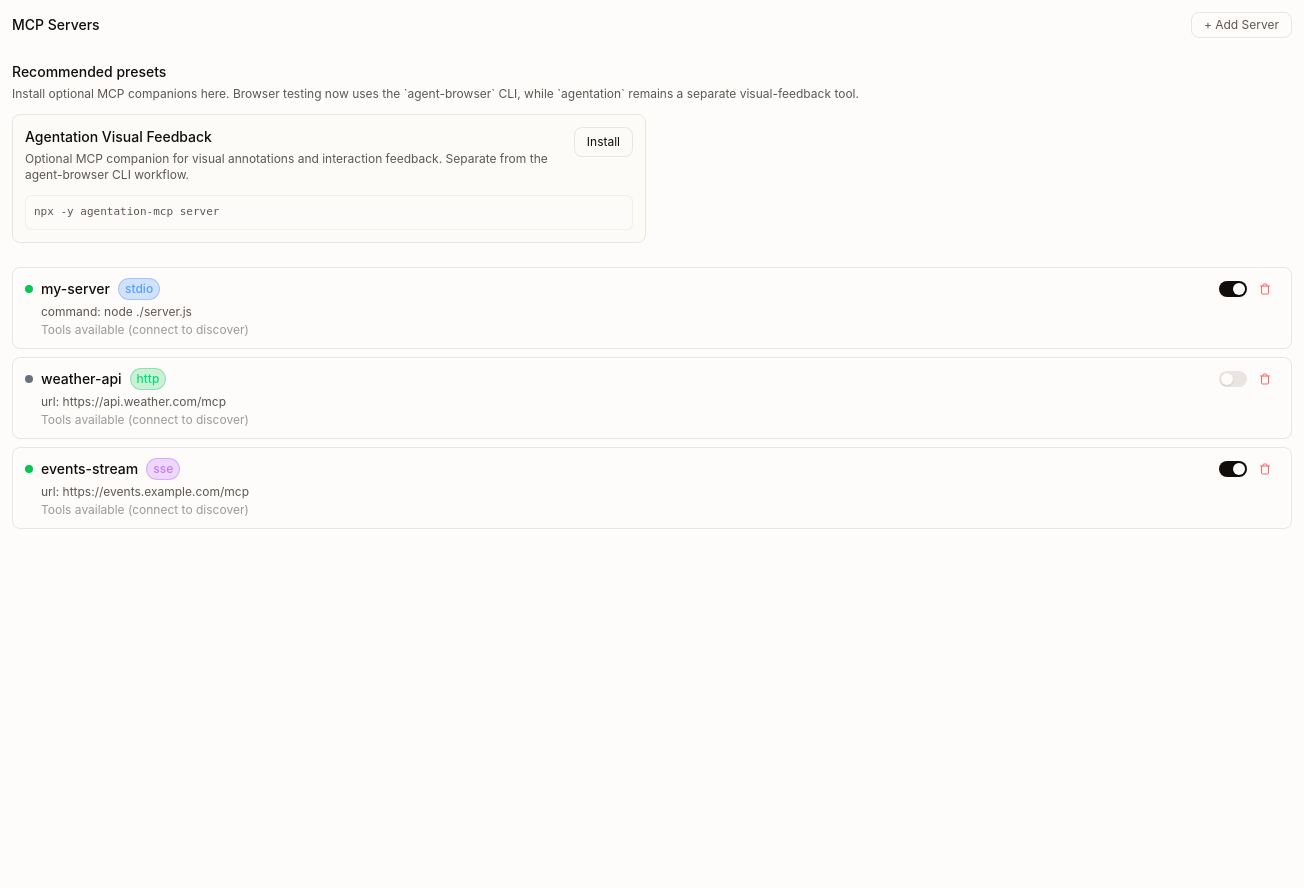
Scenario: McpPanel › add server button opens form
Expected: the element with test id "mcp-panel" is shown, [12, 12, 1292, 528]
Click the button with test id "mcp-add-btn" at (1241, 25), box [1191, 12, 1292, 38]
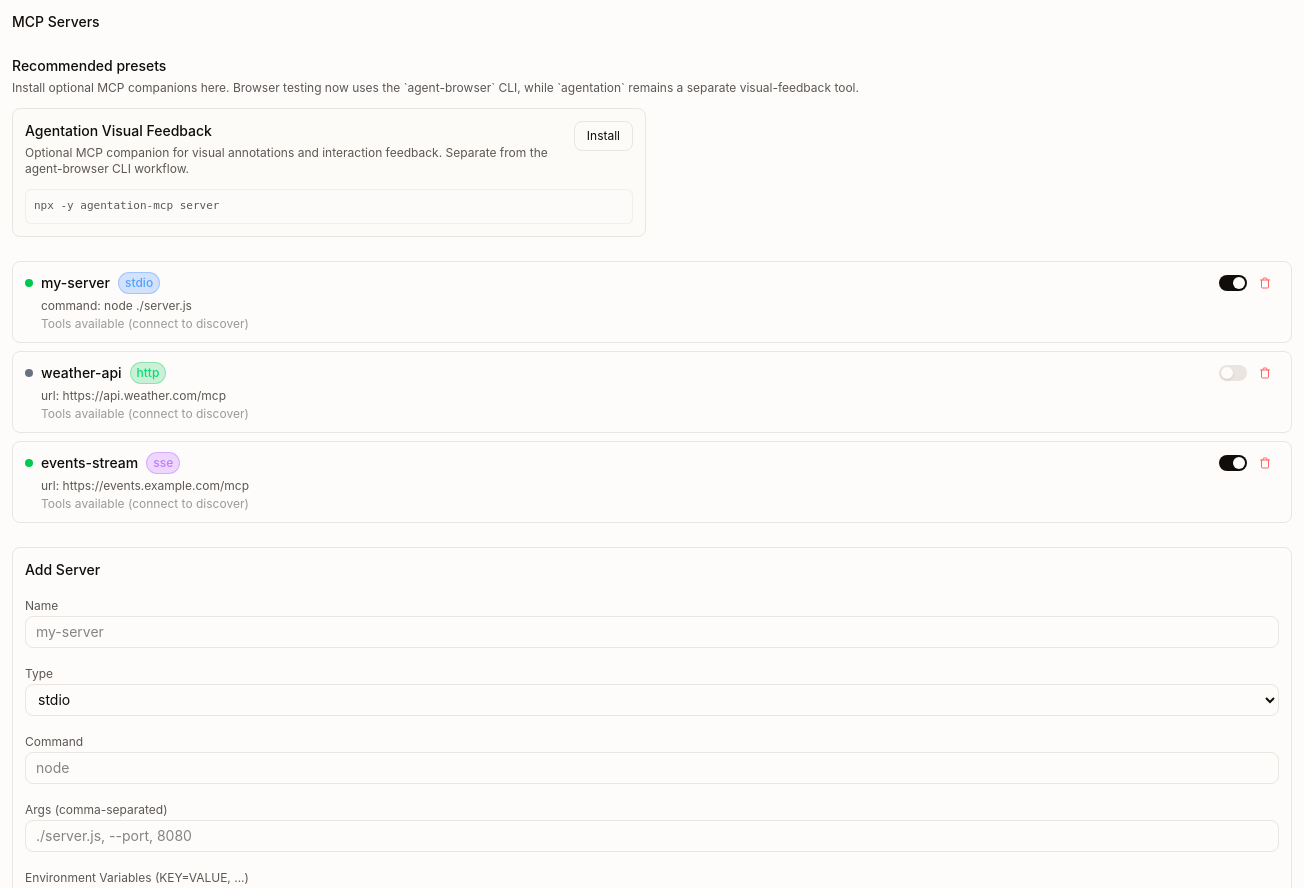
Result: the field with test id "mcp-add-name-input" is shown at [25, 616, 1279, 648]
Result: the dropdown with test id "mcp-add-type-select" is shown at [25, 684, 1279, 716]
